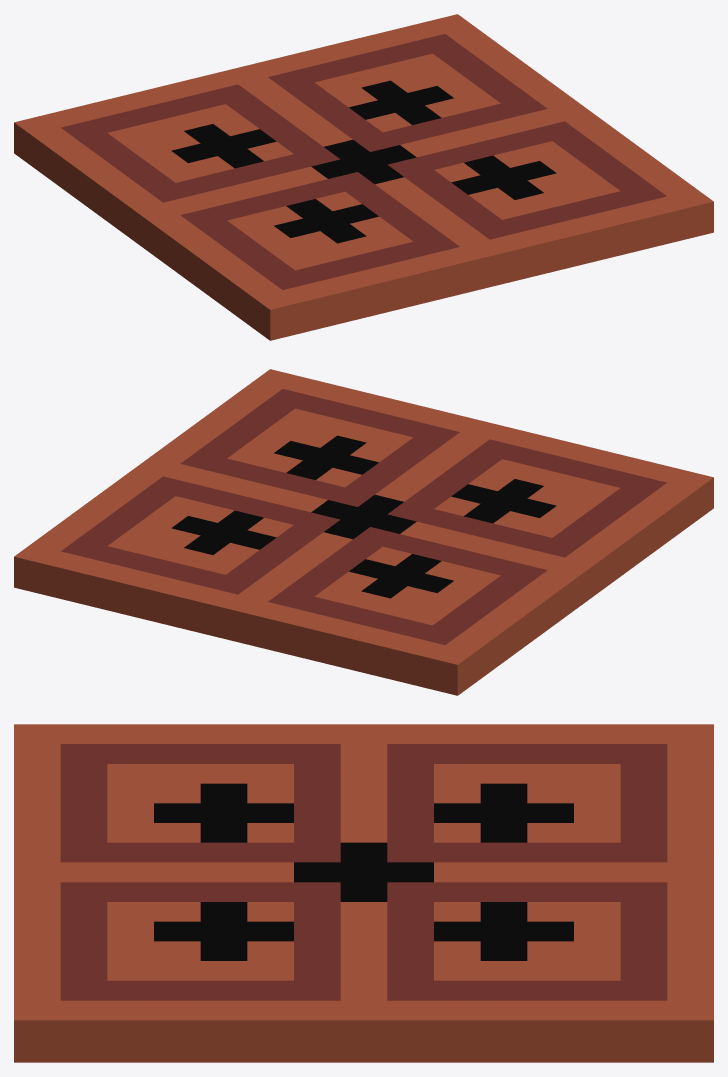
The model's file is dungeon_b_b_ground_c_b.obj.
3 views of the same model, one above another, from view 1: azimuth 30°, elevation 25°; view 2: azimuth 150°, elevation 25°; view 3: azimuth 270°, elevation 25° (orthographic). The views are drawn at different scales.
Bounding box in the file's own units: 1.5 × 0.1 × 1.5.
Materials: 1 (1 with a texture image).
